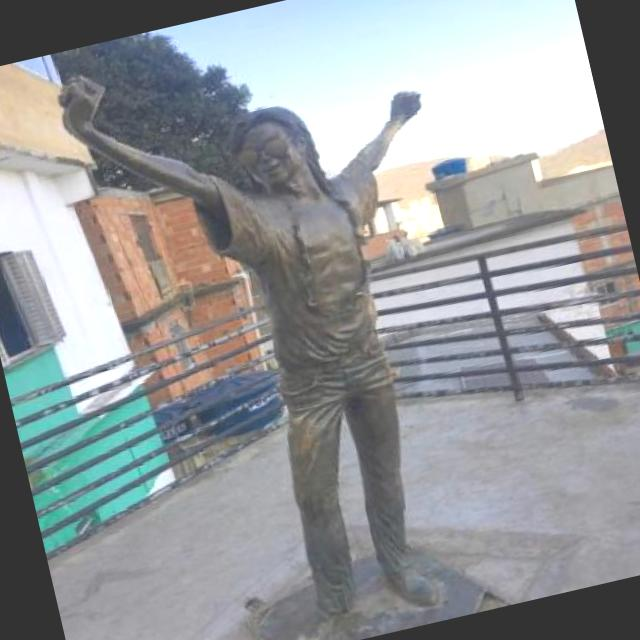Person: (41, 0, 538, 640)
